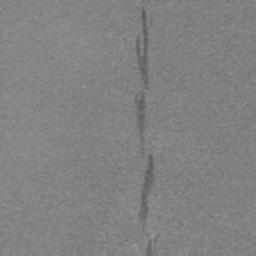Red iron sheet: (134, 91, 155, 224), (134, 10, 148, 83), (146, 233, 160, 255)
